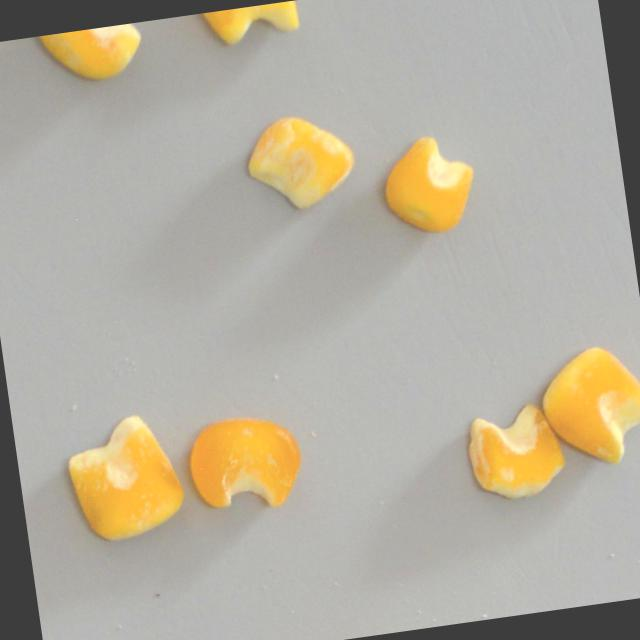no_canjicado: (535, 337, 640, 474), (183, 410, 308, 516), (376, 131, 482, 241), (190, 0, 305, 52)
pelicula: (59, 410, 189, 547), (238, 108, 358, 218), (462, 400, 570, 505), (33, 22, 146, 88)
